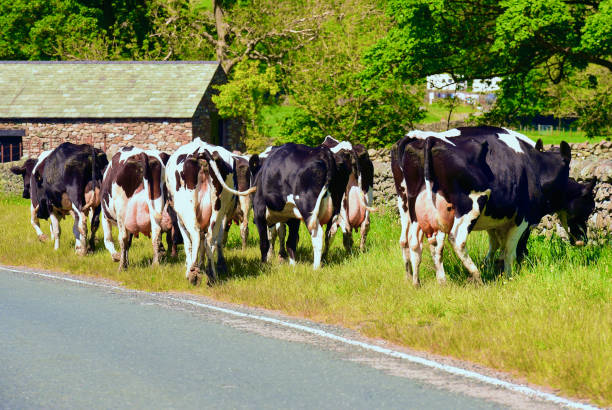inek: (394, 118, 611, 309), (247, 134, 333, 269), (4, 152, 105, 258), (100, 137, 173, 281), (158, 146, 230, 284), (316, 140, 372, 276)
